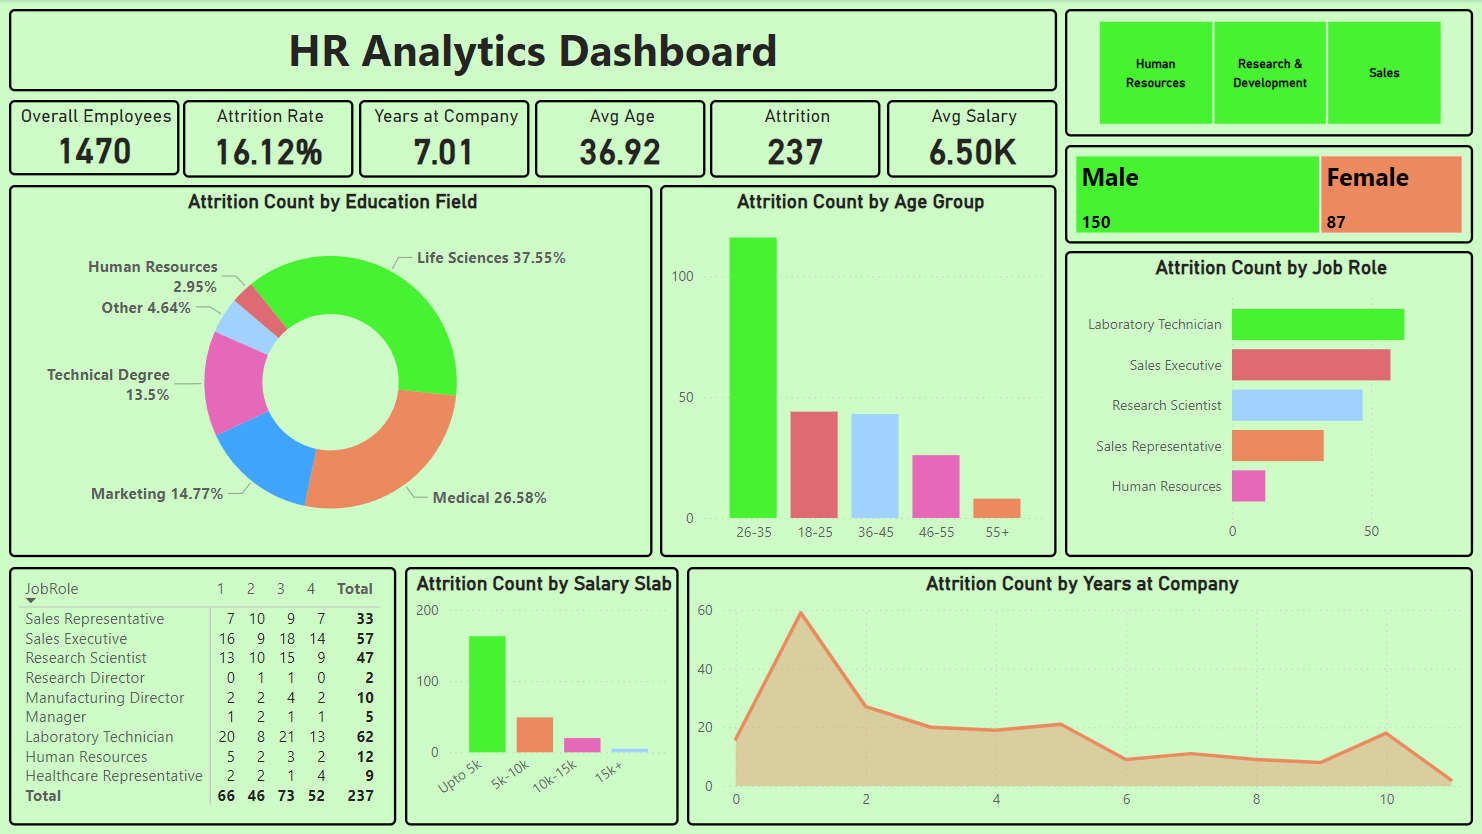

Layout of this report page (visuals, bound fields, positions):
{"tool":"powerbi","page":{"name":"HR_Analytics_Dashboard","canvas":[1280,720],"ordinal":0},"visuals":[{"type":"card","title":"Overall Employees","fields":{"Values":["Count(HR_Analytics.EmpID)"]},"box":[7.7,85.8,146.6,64.6],"z":0},{"type":"card","title":"Attrition","fields":{"Values":["Sum(HR_Analytics.Attrition_count)"]},"box":[612.5,85.8,146.6,66.6],"z":1000},{"type":"card","title":"Attrition Rate","fields":{"Values":["HR_Analytics.Attrition_rate"]},"box":[158.2,85.8,146.6,66.6],"z":2000},{"type":"card","title":"Avg Salary","fields":{"Values":["Avg(HR_Analytics.MonthlyIncome)"]},"box":[764.9,85.8,146.6,66.6],"z":3000},{"type":"card","title":"Avg Age","fields":{"Values":["Avg(HR_Analytics.Age)"]},"box":[461.1,85.8,146.6,66.6],"z":4000},{"type":"card","title":"Years at Company","fields":{"Values":["Avg(HR_Analytics.YearsAtCompany)"]},"box":[309.6,85.8,146.6,66.6],"z":5000},{"type":"donutChart","title":"Attrition Count by Education Field","fields":{"Category":["HR_Analytics.EducationField"],"Y":["Sum(HR_Analytics.Attrition_count)"]},"box":[7.7,159.2,554.6,321.2],"z":6000},{"type":"columnChart","title":"Attrition Count by Age Group","fields":{"Y":["Sum(HR_Analytics.Attrition_count)"],"Category":["HR_Analytics.AgeGroup"]},"box":[569.1,159.2,342.4,321.2],"z":7000},{"type":"pivotTable","fields":{"Rows":["HR_Analytics.JobRole"],"Columns":["HR_Analytics.JobSatisfaction"],"Values":["Sum(HR_Analytics.Attrition_count)"]},"box":[7.7,489,333.7,222.8],"z":8000},{"type":"columnChart","title":"Attrition Count by Salary Slab","fields":{"Y":["Sum(HR_Analytics.Attrition_count)"],"Category":["HR_Analytics.SalarySlab"]},"box":[349.2,489,236.3,222.8],"z":9000},{"type":"barChart","title":"Attrition Count by Job Role","fields":{"Category":["HR_Analytics.JobRole"],"Y":["Sum(HR_Analytics.Attrition_count)"]},"box":[918.6,216.5,351.9,263.9],"z":10000},{"type":"areaChart","title":"Attrition Count by Years at Company","fields":{"Category":["HR_Analytics.YearsAtCompany"],"Y":["Sum(HR_Analytics.Attrition_count)"]},"box":[592.3,489,678.1,222.8],"z":11000},{"type":"treemap","fields":{"Values":["Sum(HR_Analytics.Attrition_count)"],"Details":["HR_Analytics.Gender"]},"box":[918.6,125.1,351.9,85.4],"z":12000},{"type":"slicer","fields":{"Values":["HR_Analytics.Department"]},"box":[918.6,7.8,351.9,110.4],"z":13000},{"type":"textbox","box":[7.7,7.7,903.8,71.4],"z":14000}]}

Visuals, with their boxes in screenshot pixels (x1, y1, x2, y2), scaled from the page's 1280x720 canvas onto the 1482x834 screenshot:
"Overall Employees" card: 9, 99, 179, 174
"Attrition" card: 709, 99, 879, 177
"Attrition Rate" card: 183, 99, 353, 177
"Avg Salary" card: 886, 99, 1055, 177
"Avg Age" card: 534, 99, 704, 177
"Years at Company" card: 358, 99, 528, 177
"Attrition Count by Education Field" donutChart: 9, 184, 651, 556
"Attrition Count by Age Group" columnChart: 659, 184, 1055, 556
pivotTable - HR_Analytics.JobRole x HR_Analytics.JobSatisfaction: 9, 566, 395, 825
"Attrition Count by Salary Slab" columnChart: 404, 566, 678, 825
"Attrition Count by Job Role" barChart: 1064, 251, 1471, 556
"Attrition Count by Years at Company" areaChart: 686, 566, 1471, 825
treemap - Sum(HR_Analytics.Attrition_count) x HR_Analytics.Gender: 1064, 145, 1471, 244
slicer - HR_Analytics.Department: 1064, 9, 1471, 137
textbox: 9, 9, 1055, 92
